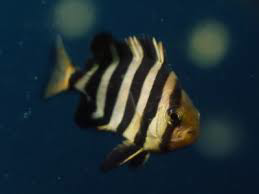azi: (52, 40, 204, 170)
